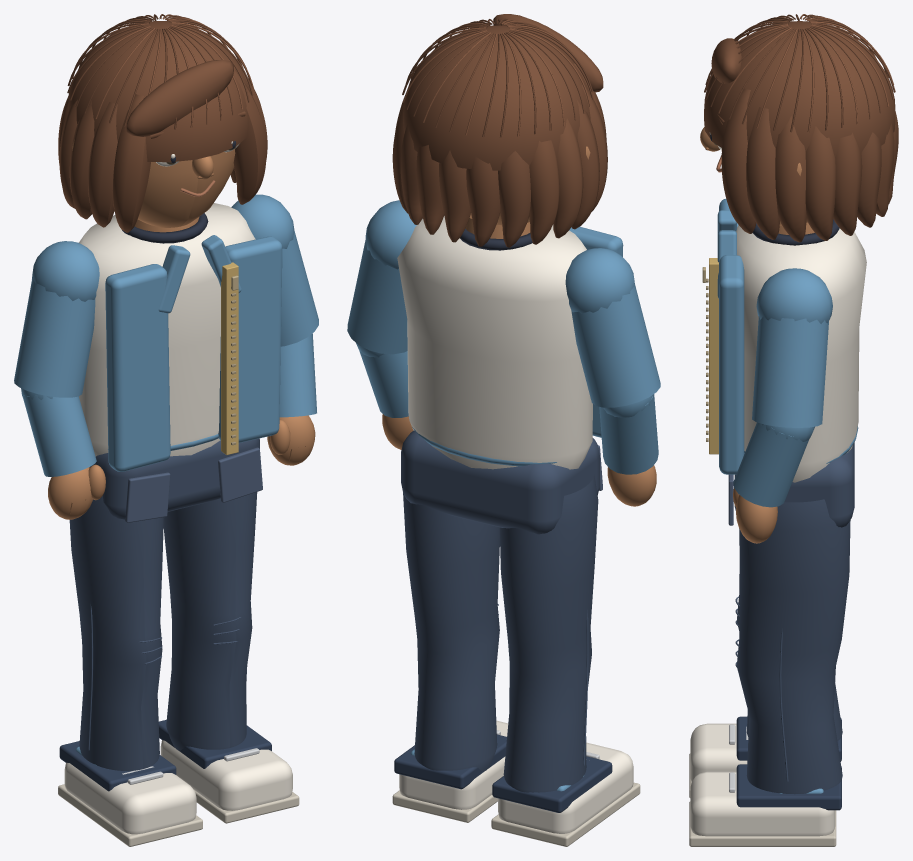
File: compa-dani.glb
3 renders of one model, left to right at view 1: azimuth 30°, elevation 25°; view 2: azimuth 150°, elevation 25°; view 3: azimuth 270°, elevation 25°, orthographic. The views are drawn at different scales.
Visible parts, largest first — view 1: body, head; view 2: body, head; view 3: body, head.
Part boxes in pixels (bbox=[...]): body: bbox=[14, 194, 318, 846]; head: bbox=[58, 14, 267, 232]; body: bbox=[347, 200, 660, 846]; head: bbox=[392, 14, 607, 247]; body: bbox=[689, 199, 866, 846]; head: bbox=[700, 14, 898, 242].
Bounding box in the file's own units: 0.8312 × 2.05 × 0.4984.
